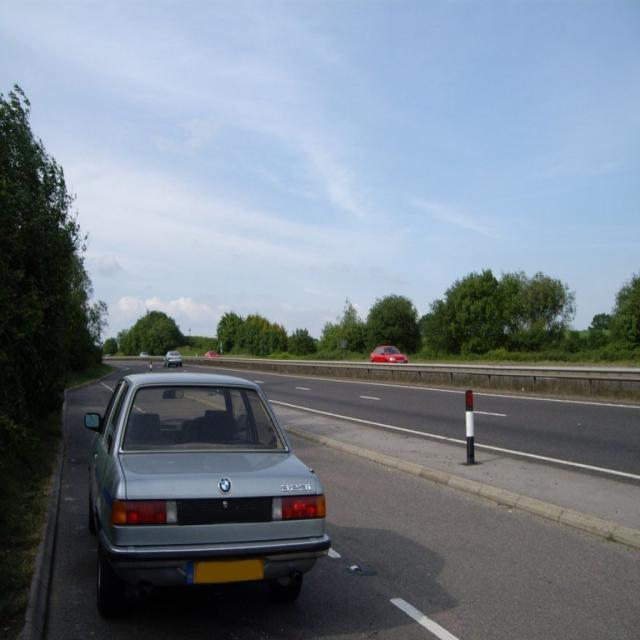car: (71, 364, 330, 622), (164, 346, 179, 365), (205, 349, 217, 360)
